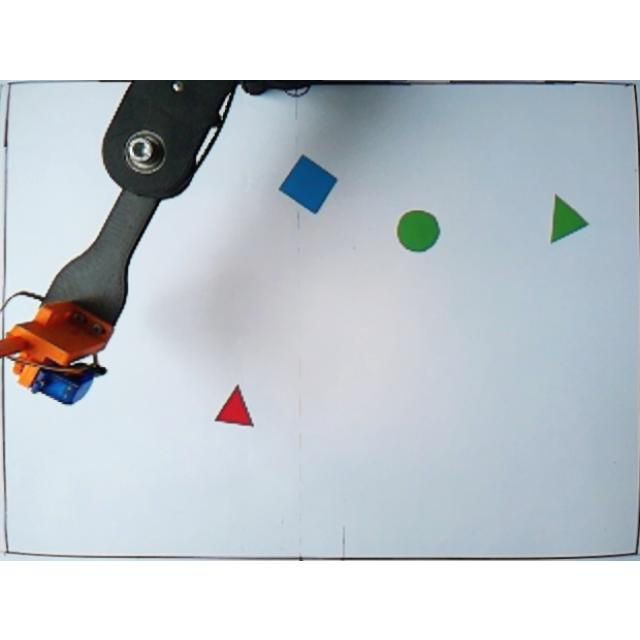blueSquare: (278, 152, 338, 212)
greenCircle: (397, 208, 441, 252)
greenTriangle: (548, 193, 590, 244)
redTriangle: (214, 382, 253, 426)
